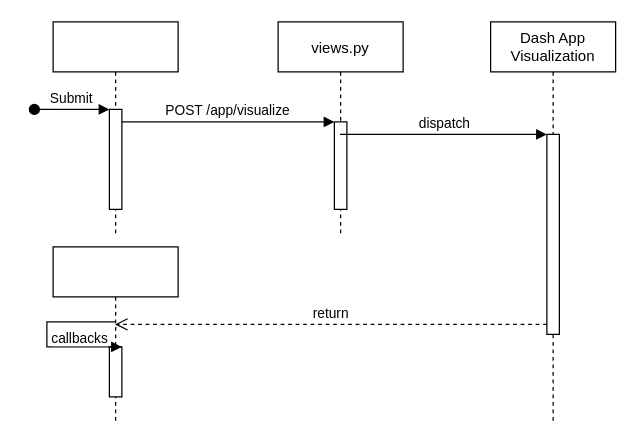
Some shapes in this 638 by 444 pixel diagram are drawn without their labels. The shapes that lost their labels are listed below. From the top down, each one's centre as x and y in pixels, then its label:
(x=115, y=127): chooseviz.html Template
(x=115, y=334): showviz.html Template
